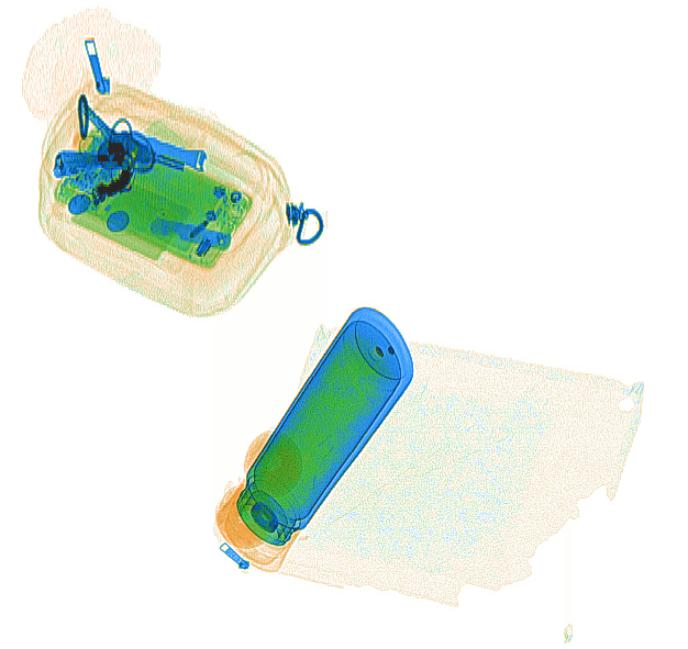knife: (149, 214, 233, 253)
